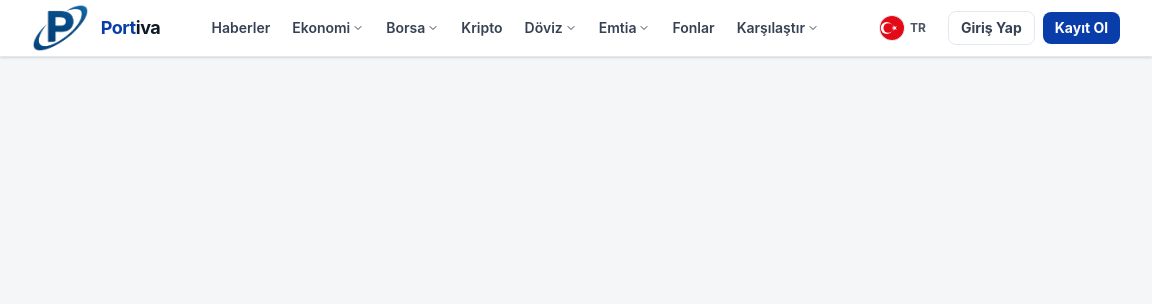
Test case: Header (Vitest + @testing-library/react) › dropdown menüleri (etkileşim) › "Borsa" başlığına tıklayınca menü öğeleri (Hisse Senetleri vb.) açılır
Expected: the text "Hisse Senetleri" is not shown
Click the button "Borsa" at (413, 28), box [376,10,449,46]
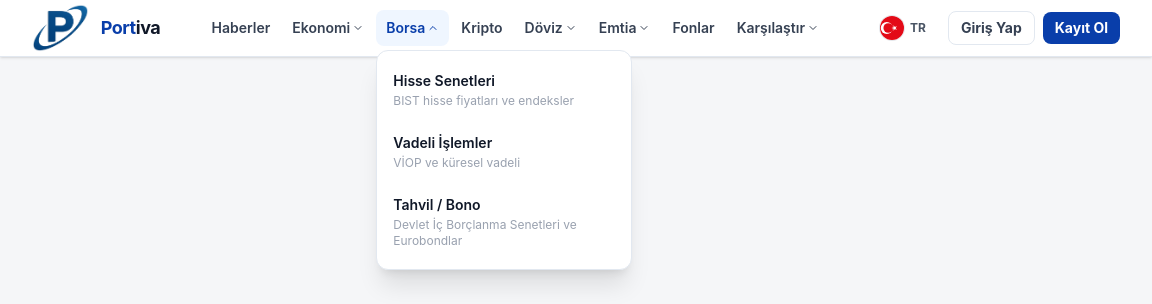
Expected: the text "Hisse Senetleri" is shown, [393,72,495,89]
Expected: the text "Vadeli İşlemler" is shown, [393,134,492,151]
Expected: the text "Tahvil / Bono" is shown, [393,196,481,213]
